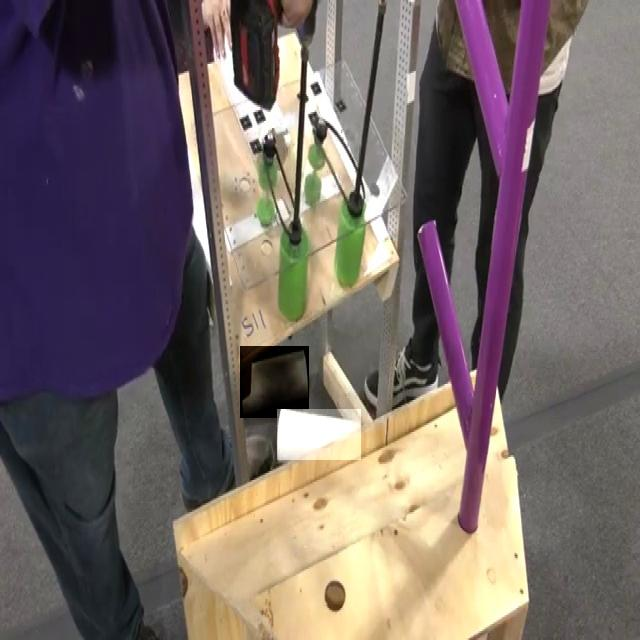Coral: (240, 346, 309, 418), (277, 409, 361, 460)
